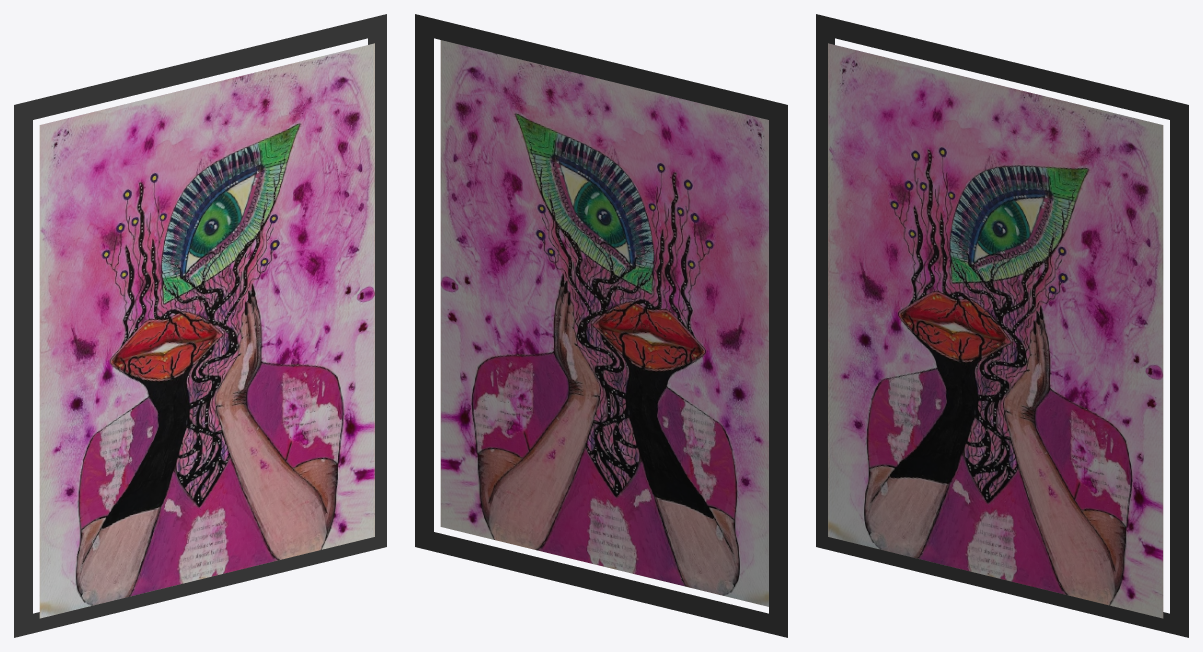
3 views of the same model, side by side, from view 1: azimuth 30°, elevation 25°; view 2: azimuth 150°, elevation 25°; view 3: azimuth 330°, elevation 25° (orthographic).
Parts seen in each view (by area): view 1: painting; view 2: painting; view 3: painting.
Boxes of the visible parts, left/top/right/bottom form: painting: left=14, top=14, right=386, bottom=637; painting: left=415, top=14, right=787, bottom=637; painting: left=816, top=14, right=1188, bottom=637.
Bounding box in the file's own units: 1.19 × 1.62 × 0.0375.
2 materials, 1 textured.
